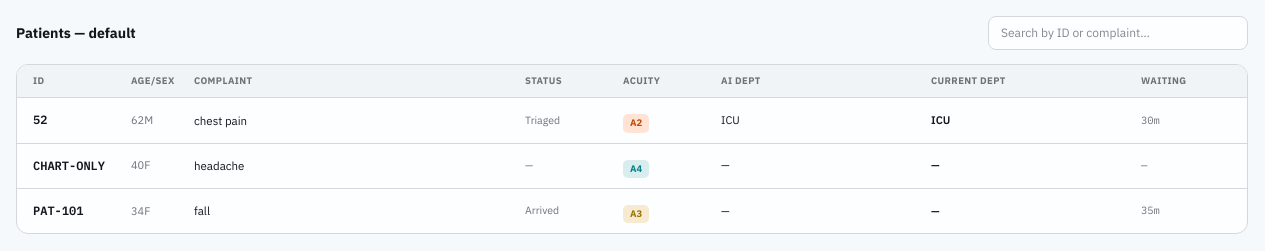
Test case: PatientList table › filters by search text
Expected: the text "52" is shown, 33,112 -> 47,127
In the field with placeholder "Search by ID or complaint…": (1118, 33) 988,16 -> 1248,50, type "headache"
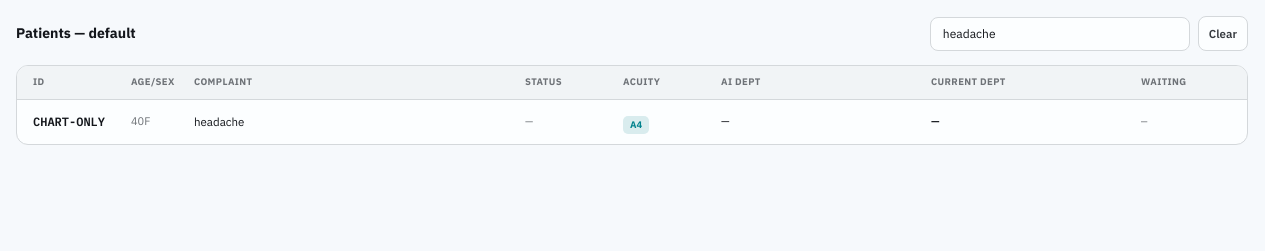
Expected: the text "CHART-ONLY" is shown, 33,114 -> 105,129
Result: the button "52" is gone
